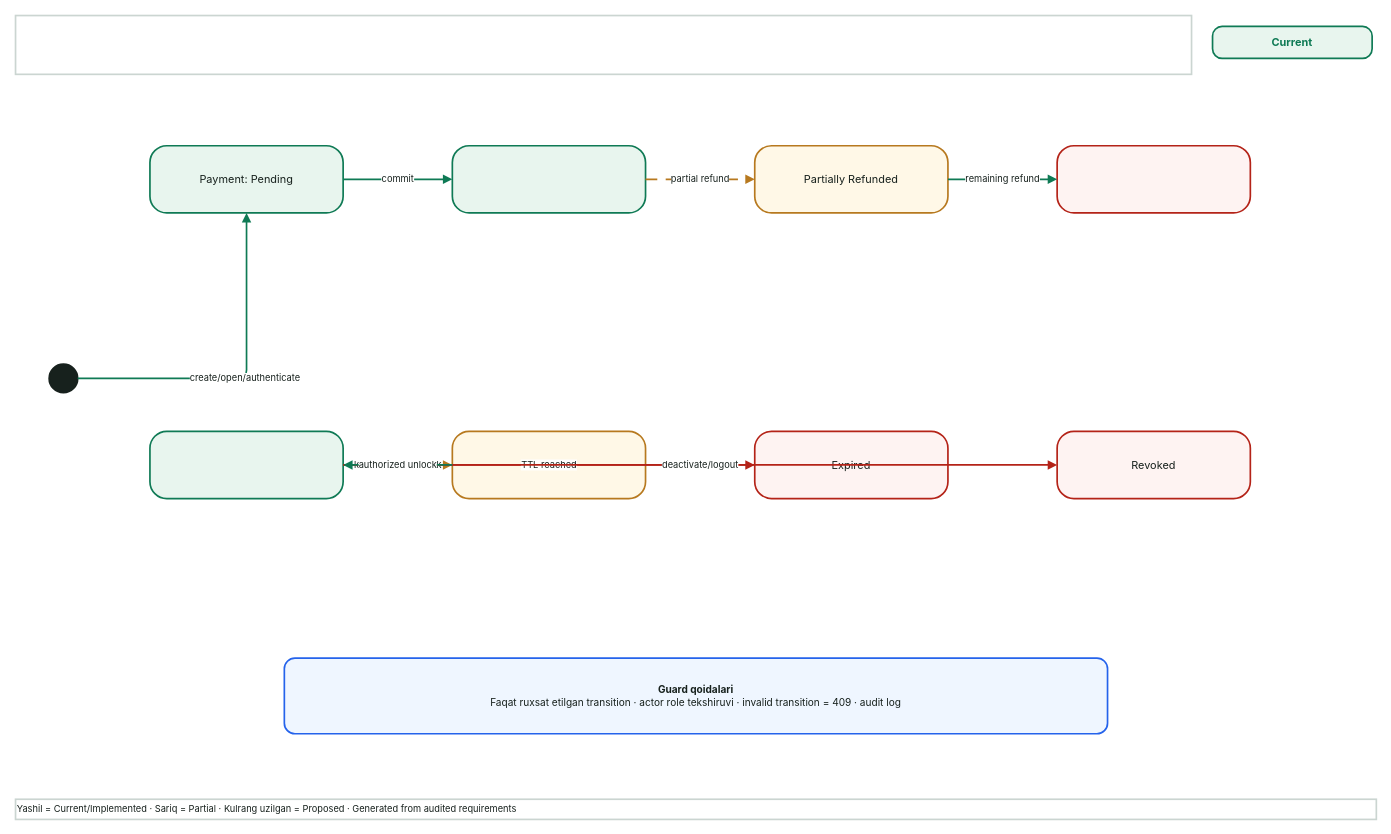
The diagram is 1391 pixels wide and 834 high, and some of its shapes have lost their labels. The shapes that lost their labels are listed below. From the top down, each one's centre as x and y in pixels, then its label:
At point (603, 44): "D17 · Payment Session State Machine UML State Machine · osonCafe SDLC".
At point (548, 178): "Payment: Succeeded".
At point (1153, 178): "Refunded".
At point (246, 464): "Session: Active".
